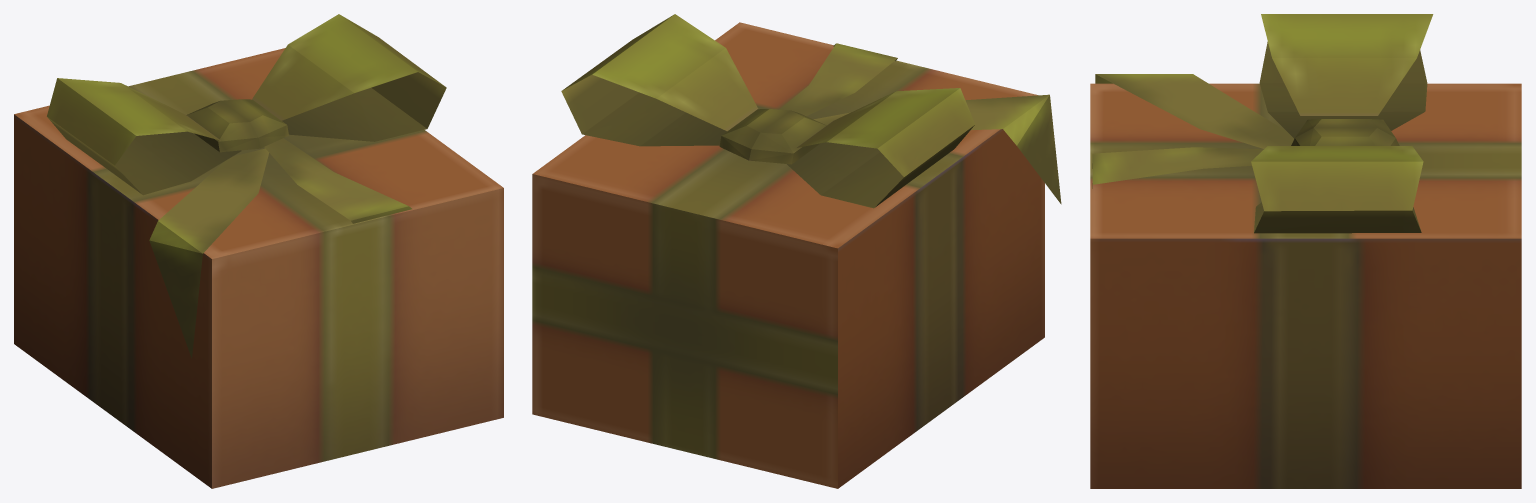
Rendered from scenes_around_box01.FBX.
3 renders of one model, left to right at view 1: azimuth 30°, elevation 25°; view 2: azimuth 150°, elevation 25°; view 3: azimuth 270°, elevation 25°, orthographic. The views are drawn at different scales.
Parts seen in each view (by area): view 1: scenes_around_box01; view 2: scenes_around_box01; view 3: scenes_around_box01.
Part boxes in pixels (x1,y1,x2,y2): scenes_around_box01: [14, 14, 503, 488]; scenes_around_box01: [532, 14, 1061, 488]; scenes_around_box01: [1090, 14, 1521, 488].
Size of the model in its own units: 4682 by 3970 by 4830.
